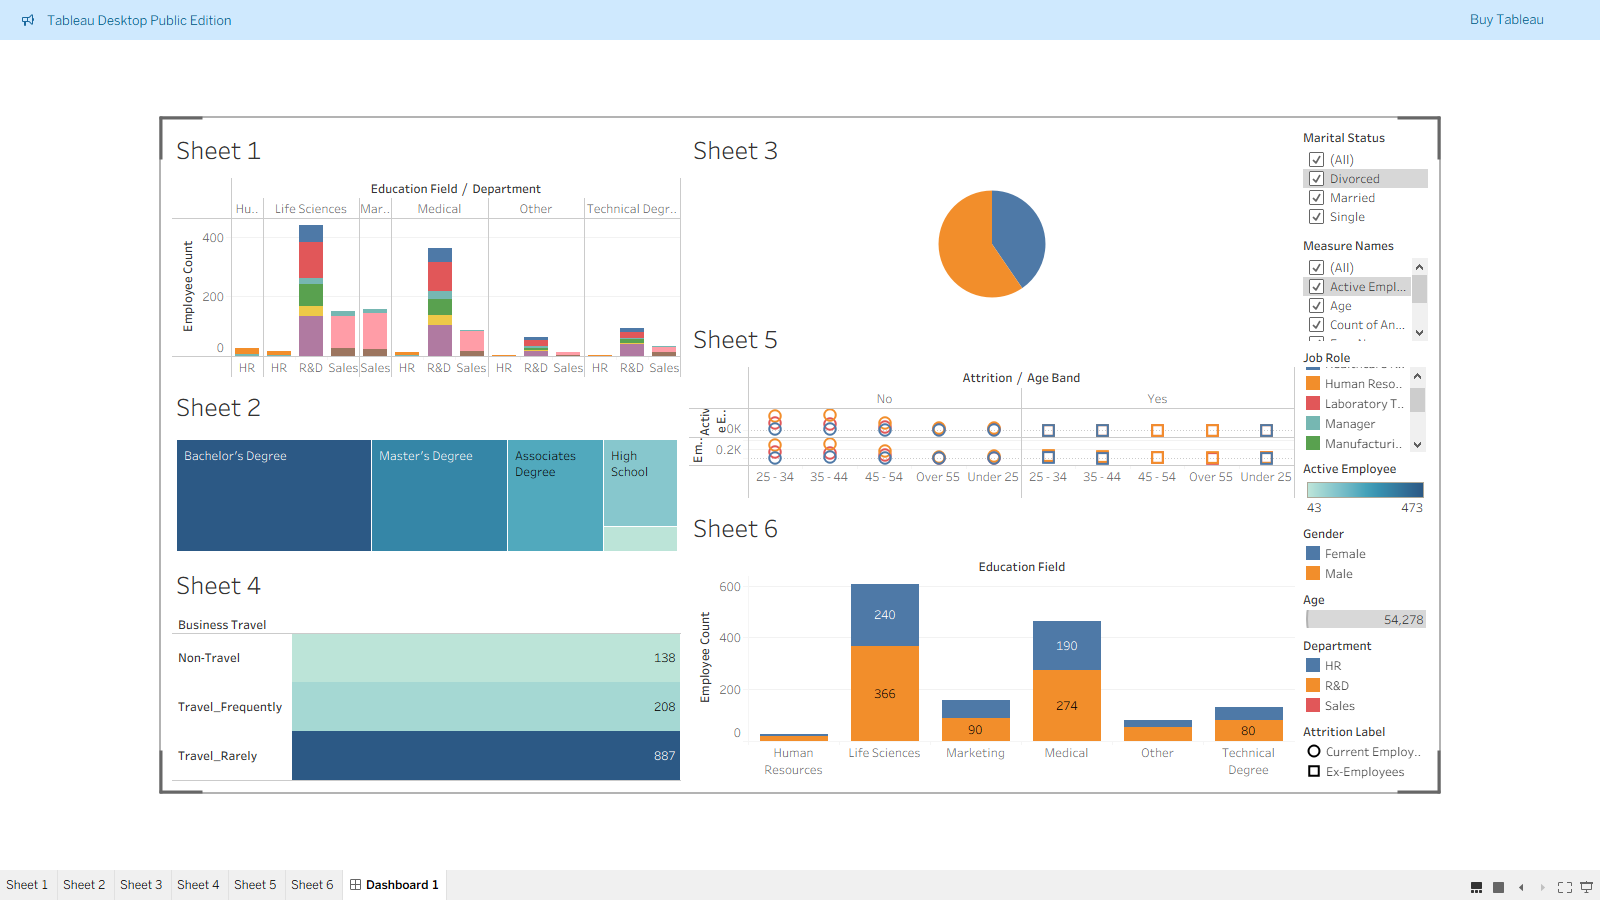

What the dashboard file says about the page in this screenshot:
{"tool":"tableau","page":{"name":"Dashboard 1","canvas":[650,860],"ordinal":0},"visuals":[{"type":"worksheet","title":"Sheet 1","mark":"Automatic","rows":["employee_count"],"cols":["education_field","department"],"box":[8,10,208,327.7]},{"type":"worksheet","title":"Sheet 4","mark":"Square","rows":["business_travel"],"box":[216,10,323,174.5]},{"type":"filter","title":"Sheet 6","param":"[federated.17g2inh0axquzz1465vhj0fll5z4].[none:marital_status:nk]","box":[539,10,103,135.6]},{"type":"filter","title":"Sheet 6","param":"[federated.17g2inh0axquzz1465vhj0fll5z4].[:Measure Names]","box":[539,145.6,103,145.6]},{"type":"worksheet","title":"Sheet 5","mark":"Shape","rows":["active_employee","employee_count"],"cols":["attrition","age_band"],"box":[216,184.6,323,334]},{"type":"legend","title":"Sheet 1","param":"[federated.17g2inh0axquzz1465vhj0fll5z4].[none:job_role:nk]","box":[539,291.3,103,145.6]},{"type":"worksheet","title":"Sheet 2","mark":"Automatic","box":[8,337.7,208,163.8]},{"type":"legend","title":"Sheet 2","param":"[federated.17g2inh0axquzz1465vhj0fll5z4].[sum:active_employee:qk]","box":[539,436.9,103,81.6]},{"type":"worksheet","title":"Sheet 3","mark":"Pie","box":[8,501.6,208,348.4]},{"type":"worksheet","title":"Sheet 6","mark":"Bar","rows":["employee_count"],"cols":["education_field"],"box":[216,518.5,323,331.4]},{"type":"legend","title":"Sheet 3","param":"[federated.17g2inh0axquzz1465vhj0fll5z4].[none:gender:nk]","box":[539,518.5,103,82.9]},{"type":"legend","title":"Sheet 3","param":"[federated.17g2inh0axquzz1465vhj0fll5z4].[sum:age:qk]","box":[539,601.4,103,57.7]},{"type":"legend","title":"Sheet 5","param":"[federated.17g2inh0axquzz1465vhj0fll5z4].[none:department:nk]","box":[539,659.1,103,108]},{"type":"legend","title":"Sheet 5","param":"[federated.17g2inh0axquzz1465vhj0fll5z4].[none:attrition_label:nk]","box":[539,767.1,103,82.9]}]}

Visuals, with their boxes on the page's 650x860 design canvas (x1, y1, x2, y2). These are canvas units, not pixel positions in the 1600x900 screenshot, which may show the page scaled, cropped or inside an application window:
"Sheet 1" worksheet: {"left": 8, "top": 10, "right": 216, "bottom": 338}
"Sheet 4" worksheet (Square marks): {"left": 216, "top": 10, "right": 539, "bottom": 184}
"Sheet 6" filter: {"left": 539, "top": 10, "right": 642, "bottom": 146}
"Sheet 6" filter: {"left": 539, "top": 146, "right": 642, "bottom": 291}
"Sheet 5" worksheet (Shape marks): {"left": 216, "top": 185, "right": 539, "bottom": 519}
"Sheet 1" legend: {"left": 539, "top": 291, "right": 642, "bottom": 437}
"Sheet 2" worksheet: {"left": 8, "top": 338, "right": 216, "bottom": 502}
"Sheet 2" legend: {"left": 539, "top": 437, "right": 642, "bottom": 518}
"Sheet 3" worksheet (Pie marks): {"left": 8, "top": 502, "right": 216, "bottom": 850}
"Sheet 6" worksheet (Bar marks): {"left": 216, "top": 518, "right": 539, "bottom": 850}
"Sheet 3" legend: {"left": 539, "top": 518, "right": 642, "bottom": 601}
"Sheet 3" legend: {"left": 539, "top": 601, "right": 642, "bottom": 659}
"Sheet 5" legend: {"left": 539, "top": 659, "right": 642, "bottom": 767}
"Sheet 5" legend: {"left": 539, "top": 767, "right": 642, "bottom": 850}
